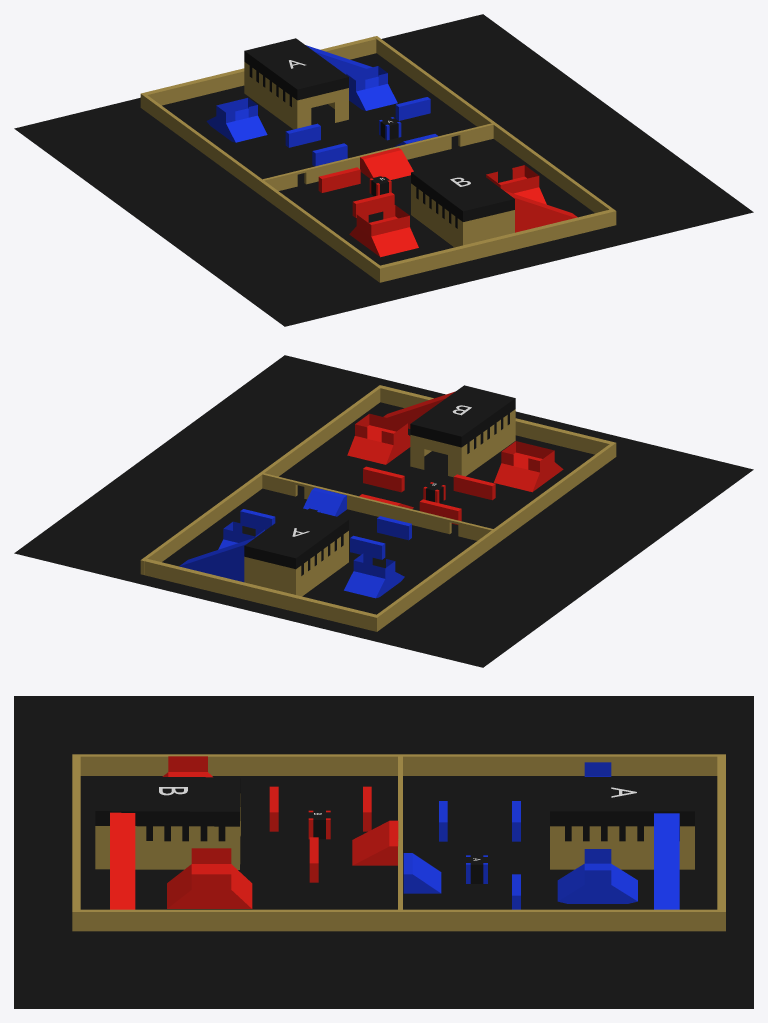
Rendered from big_map_pvp.glb.
3 views of the same model, one above another, from view 1: azimuth 30°, elevation 25°; view 2: azimuth 150°, elevation 25°; view 3: azimuth 270°, elevation 25° (orthographic). The views are drawn at different scales.
Visible parts, largest first — view 1: Plane, Cube.002, Cube, Cube.001, Cube.016, Cube.014, Cube.013, Cube.018, Cube.011, Cube.015, Cube.009, Cube.010 (+4 smaller); view 2: Plane, Cube.002, Cube, Cube.001, Cube.016, Cube.015, Cube.014, Cube.017, Cube.005, Cube.010, Cube.012, Cube.018 (+5 smaller); view 3: Plane, Cube.002, Cube, Cube.001, Cube.015, Cube.013, Cube.018, Cube.017, Cube.011, Cube.005, Cube.016, Cube.004 (+1 smaller).
Boxes of the visible parts, left/top/right/bottom form: Plane: left=14, top=14, right=753, bottom=326; Cube.002: left=140, top=36, right=616, bottom=282; Cube: left=244, top=38, right=348, bottom=129; Cube.001: left=411, top=160, right=514, bottom=247; Cube.016: left=349, top=205, right=418, bottom=257; Cube.014: left=206, top=98, right=267, bottom=142; Cube.013: left=346, top=66, right=397, bottom=110; Cube.018: left=504, top=190, right=577, bottom=232; Cube.011: left=360, top=147, right=413, bottom=180; Cube.015: left=486, top=165, right=546, bottom=204; Cube.009: left=318, top=167, right=360, bottom=192; Cube.010: left=352, top=192, right=394, bottom=217; Plane: left=14, top=355, right=753, bottom=667; Cube.002: left=140, top=385, right=616, bottom=631; Cube: left=244, top=507, right=348, bottom=596; Cube.001: left=410, top=385, right=515, bottom=477; Cube.016: left=494, top=441, right=563, bottom=492; Cube.015: left=347, top=413, right=410, bottom=464; Cube.014: left=344, top=553, right=404, bottom=598; Cube.017: left=179, top=538, right=254, bottom=582; Cube.005: left=303, top=487, right=346, bottom=516; Cube.010: left=453, top=474, right=495, bottom=500; Cube.012: left=363, top=466, right=404, bottom=492; Cube.018: left=383, top=391, right=455, bottom=428; Plane: left=14, top=696, right=753, bottom=1008; Cube.002: left=72, top=754, right=725, bottom=931; Cube: left=550, top=777, right=694, bottom=869; Cube.001: left=95, top=776, right=240, bottom=869; Cube.015: left=167, top=848, right=252, bottom=908; Cube.013: left=557, top=849, right=637, bottom=903; Cube.018: left=110, top=812, right=135, bottom=909; Cube.017: left=654, top=813, right=679, bottom=909; Cube.011: left=352, top=820, right=398, bottom=865; Cube.005: left=403, top=853, right=441, bottom=893; Cube.016: left=162, top=756, right=212, bottom=777; Cube.004: left=308, top=810, right=330, bottom=839.
Size of the model in its own units: 66.62 by 6.24 by 66.62.
